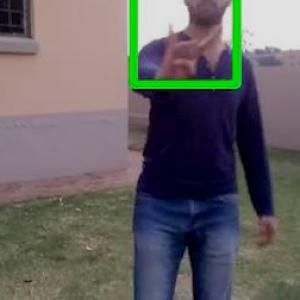takeoff-hand: (155, 7, 226, 92)
